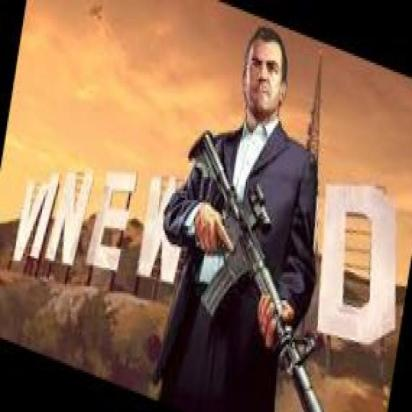Gun: (192, 142, 316, 412)
